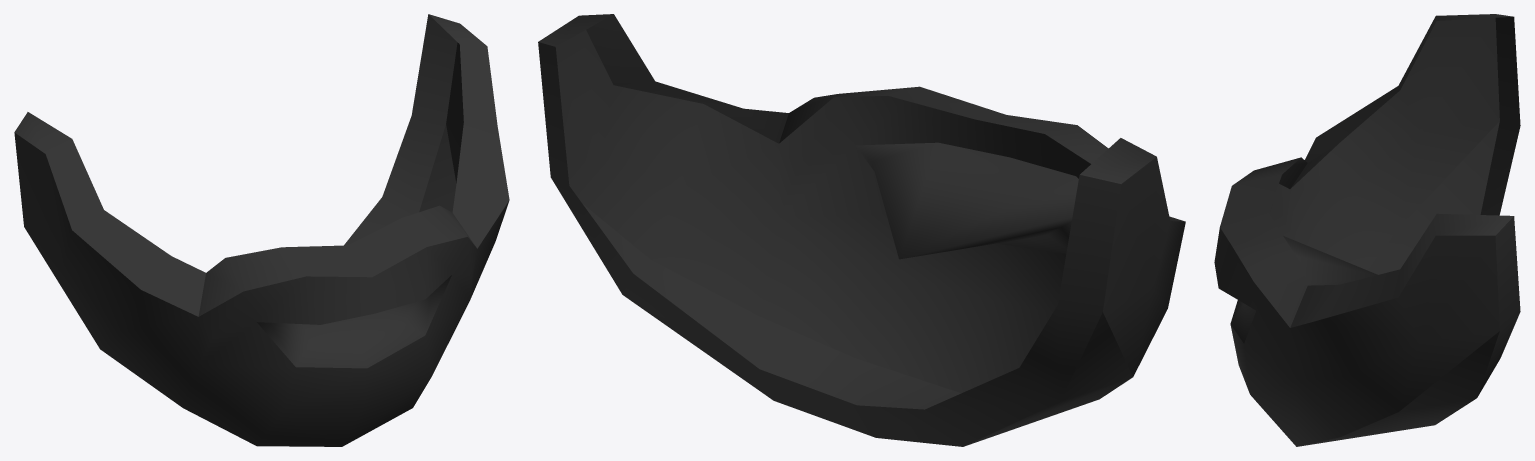
The model's file is Male_Beard_01.fbx.
3 views of the same model, side by side, from view 1: azimuth 30°, elevation 25°; view 2: azimuth 150°, elevation 25°; view 3: azimuth 270°, elevation 25° (orthographic). The views are drawn at different scales.
Visible parts, largest first — view 1: Male_Beard_01; view 2: Male_Beard_01; view 3: Male_Beard_01.
Part boxes in pixels (<box>): Male_Beard_01: <box>14,14,509,446</box>; Male_Beard_01: <box>538,14,1185,446</box>; Male_Beard_01: <box>1214,14,1520,446</box>.
Size of the model in its own units: 49.08 by 31.64 by 28.62.
